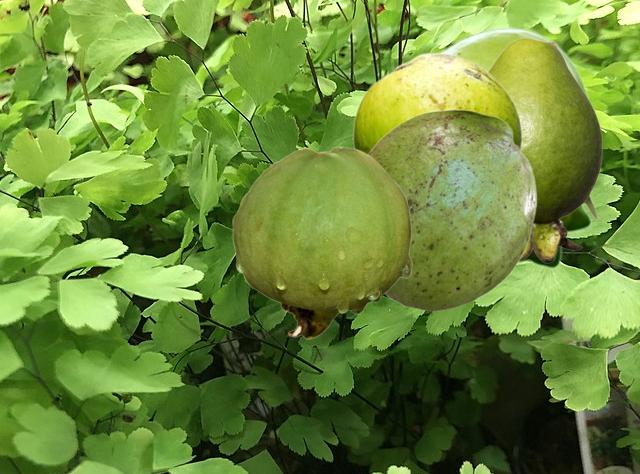guava: (438, 26, 592, 269), (232, 146, 411, 338), (368, 109, 536, 310), (488, 37, 601, 262), (352, 52, 522, 152)
